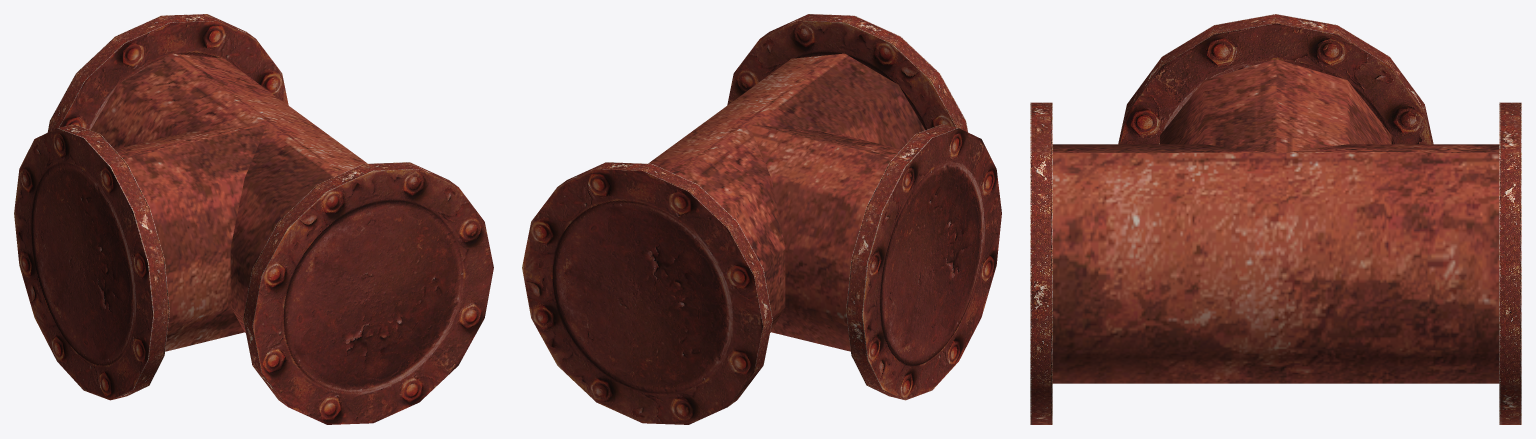
Rendered from tjoint_red.DAE.
The picture shows the model from 3 angles, left to right: view 1: azimuth 30°, elevation 25°; view 2: azimuth 150°, elevation 25°; view 3: azimuth 270°, elevation 25°; orthographic projection. The views are drawn at different scales.
Parts seen in each view (by area): view 1: Box343, Box344; view 2: Box343, Box344; view 3: Box344, Box343.
Part boxes in pixels (x1,y1,x2,y2): Box343: (14,14,493,424); Box344: (90,53,367,351); Box343: (522,14,1001,424); Box344: (648,53,924,351); Box344: (1052,59,1499,383); Box343: (1030,14,1521,424).
Size of the model in its own units: 0.8282 by 1 by 0.6566.
